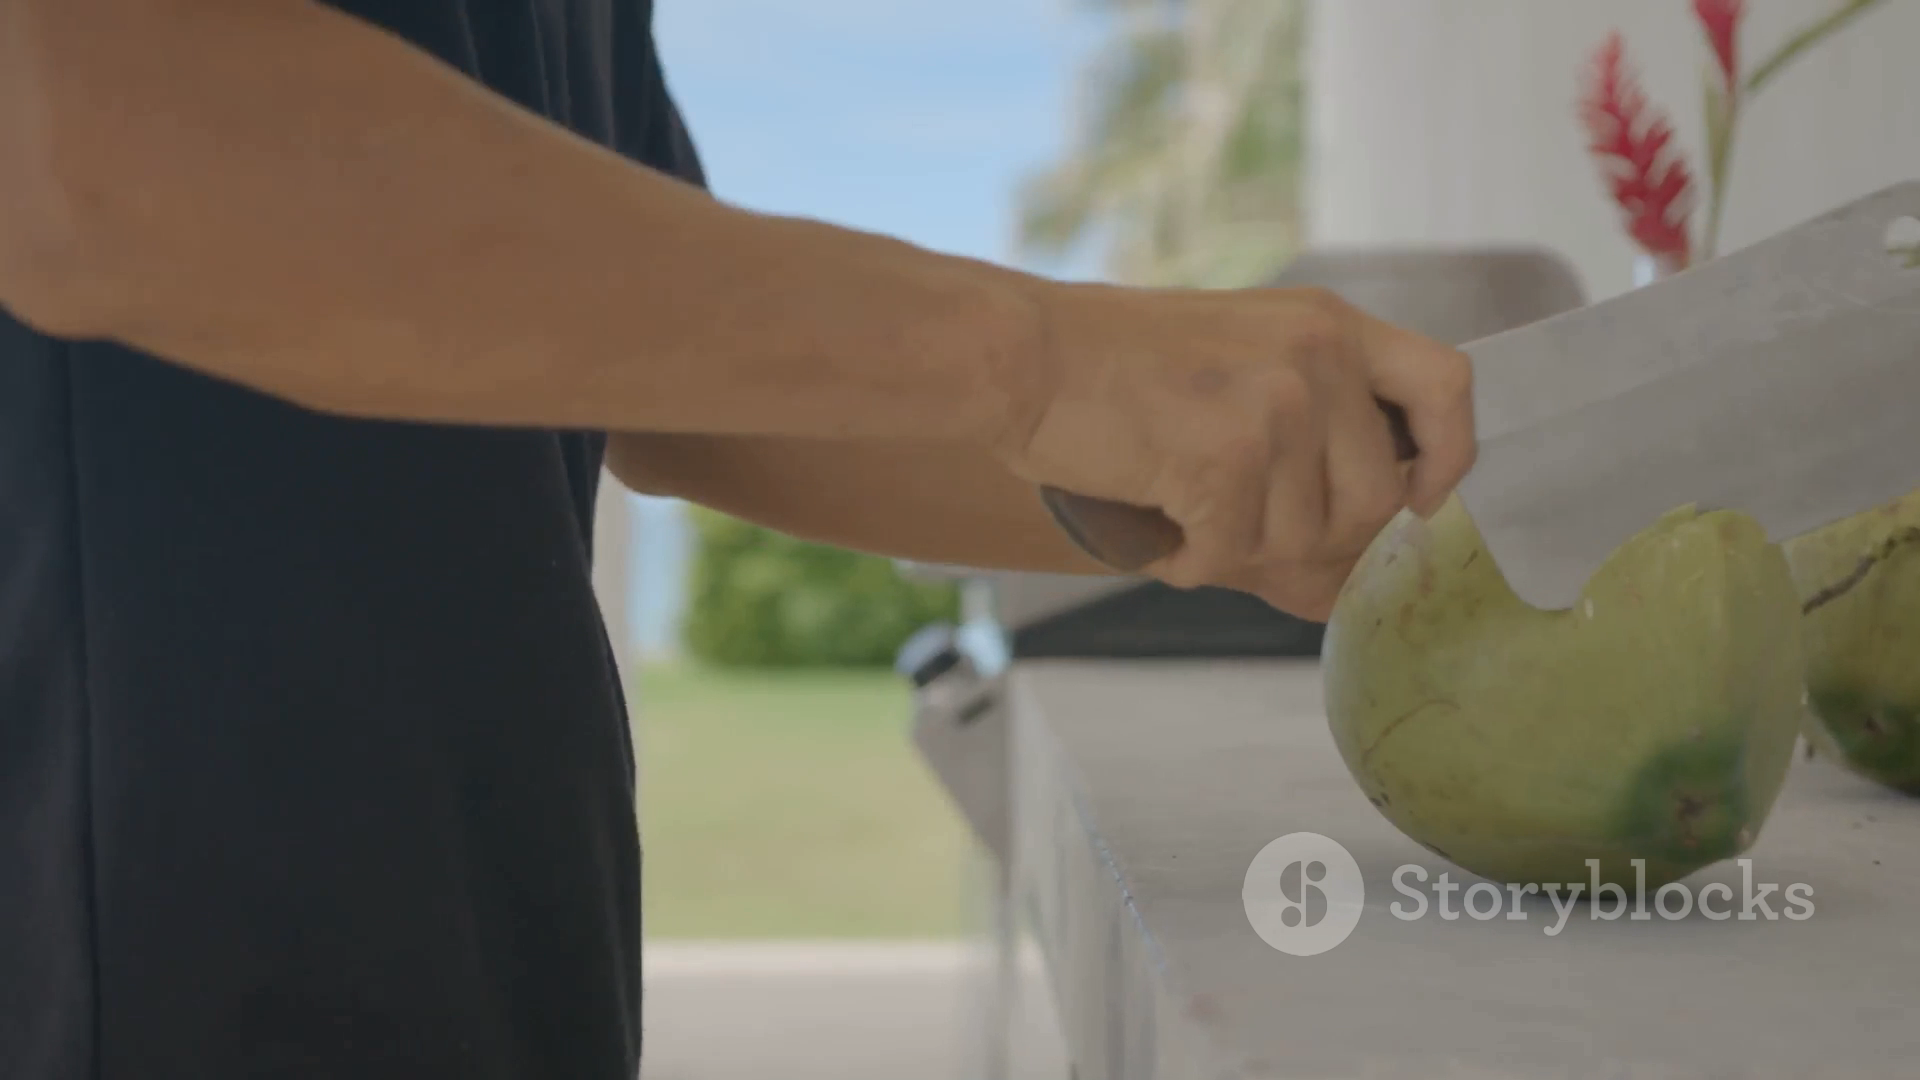cortante: (1428, 178, 1920, 613)
